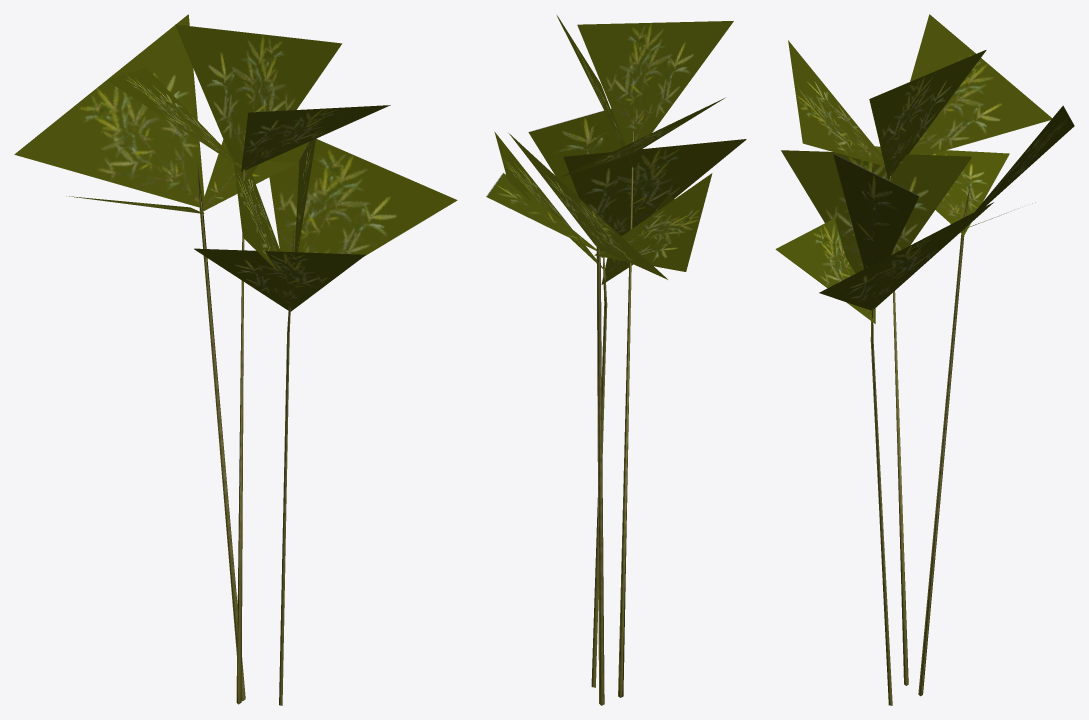
The model's file is leaf_bamboo_tri_yllw_l2.fbx.
The picture shows the model from 3 angles, left to right: view 1: azimuth 30°, elevation 25°; view 2: azimuth 150°, elevation 25°; view 3: azimuth 270°, elevation 25°; orthographic projection. The views are drawn at different scales.
Parts seen in each view (by area): view 1: mesh_node; view 2: mesh_node; view 3: mesh_node.
Boxes of the visible parts, box(x1,y1,x2,y2) form: mesh_node: box(14, 14, 457, 705); mesh_node: box(486, 15, 746, 705); mesh_node: box(775, 14, 1074, 705).
Size of the model in its own units: 5.64 by 11.46 by 4.94.
Materials: 2 (2 with a texture image).
